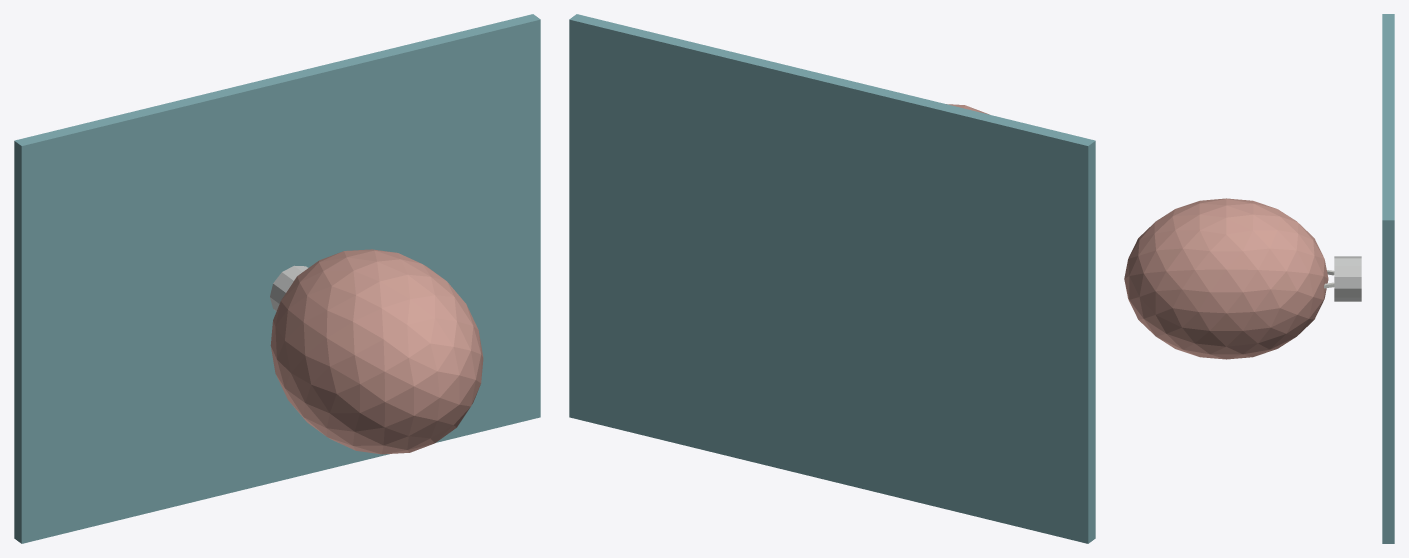
3 renders of one model, left to right at view 1: azimuth 30°, elevation 25°; view 2: azimuth 150°, elevation 25°; view 3: azimuth 270°, elevation 25°, orthographic. The views are drawn at different scales.
Visible parts, largest first — view 1: section_00, section_04, section_01; view 2: section_00; view 3: section_04, section_00, section_01.
Boxes of the visible parts, x1=… form: section_00: x1=14, y1=14, x2=540, y2=543; section_04: x1=270, y1=249, x2=483, y2=454; section_01: x1=270, y1=265, x2=307, y2=311; section_00: x1=569, y1=14, x2=1095, y2=543; section_04: x1=1124, y1=198, x2=1328, y2=359; section_00: x1=1382, y1=14, x2=1394, y2=543; section_01: x1=1334, y1=256, x2=1361, y2=301.
Bounding box in the file's own units: 7.1 × 5.2 × 3.94.
